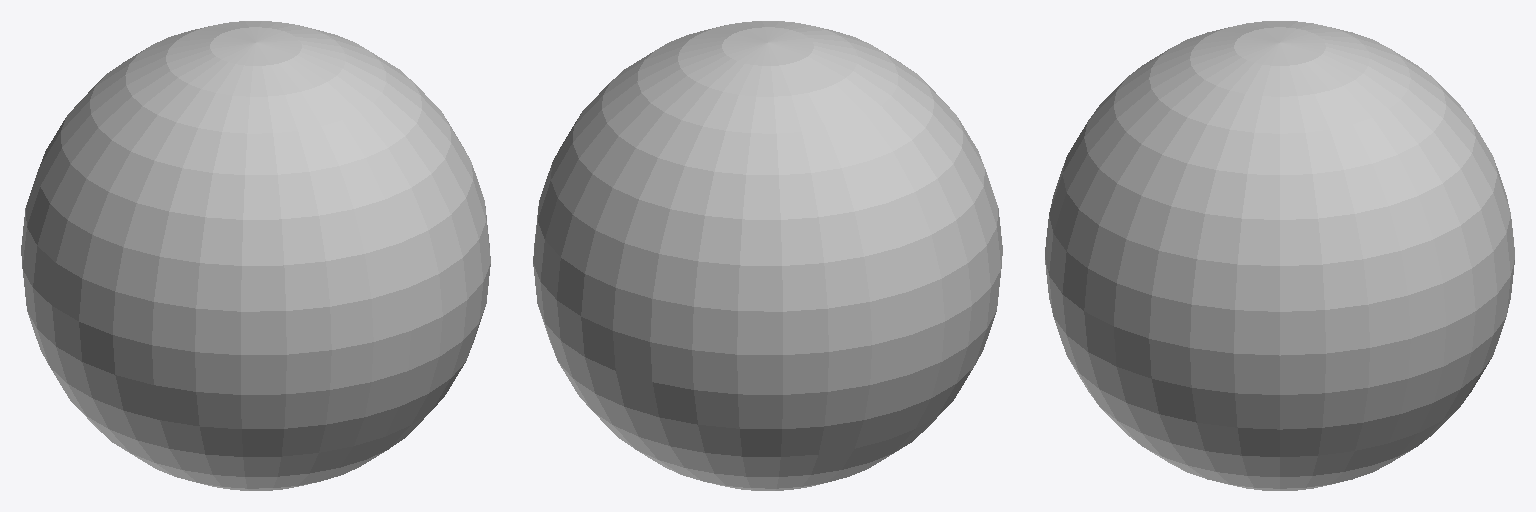
The model's file is gem_type_3.obj.
3 views of the same model, side by side, from view 1: azimuth 30°, elevation 25°; view 2: azimuth 150°, elevation 25°; view 3: azimuth 270°, elevation 25° (orthographic).
Visible parts, largest first — view 1: gem_type_3; view 2: gem_type_3; view 3: gem_type_3.
Part boxes in pixels (x1,y1,x2,y2): gem_type_3: (21, 21, 490, 490); gem_type_3: (533, 21, 1002, 490); gem_type_3: (1045, 21, 1514, 490).
Size of the model in its own units: 0.8 by 0.8 by 0.8.